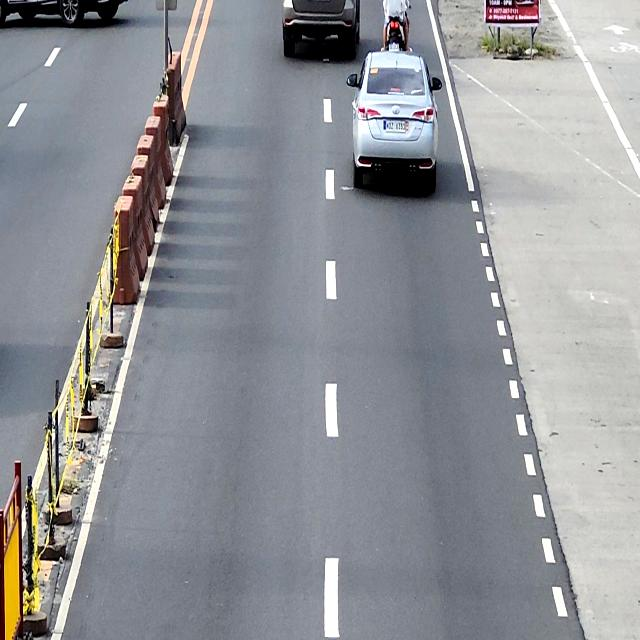Car: (346, 49, 442, 191), (282, 0, 360, 58), (0, 0, 128, 27)
License-Plate: (382, 118, 408, 134)
Motorcycle: (381, 0, 412, 52)
